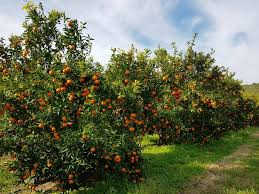orange: (114, 154, 123, 162)
